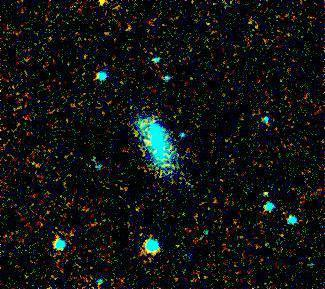star: (250, 181, 280, 211)
